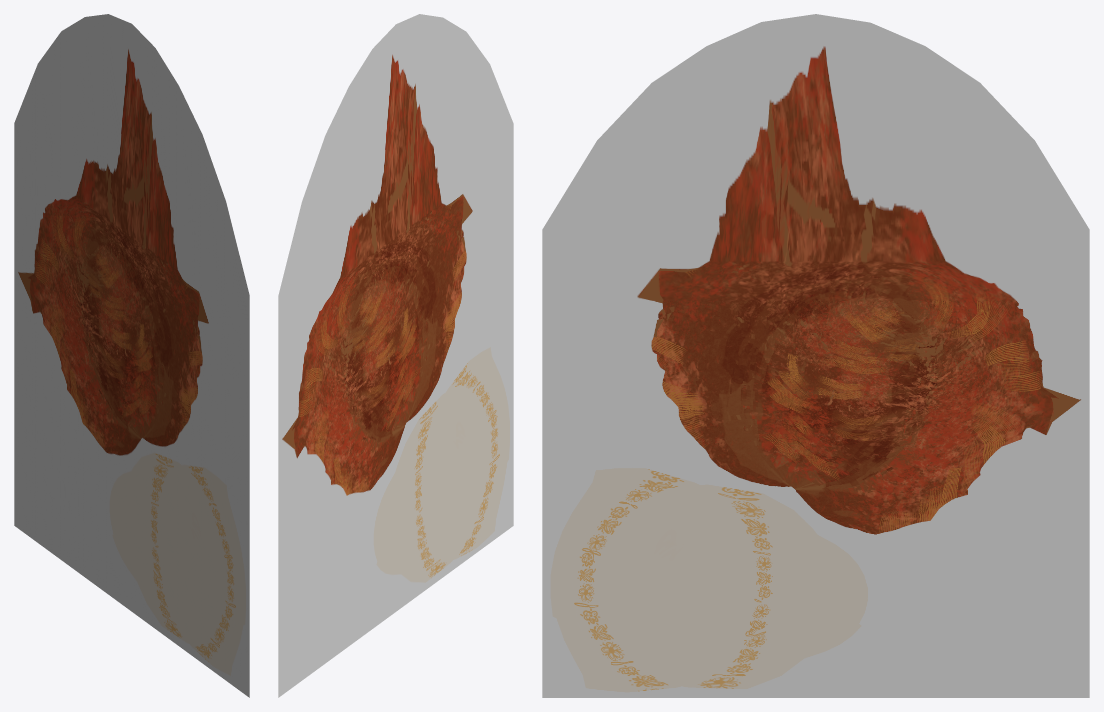
File: portalmesh.obj
3 renders of one model, left to right at view 1: azimuth 30°, elevation 25°; view 2: azimuth 150°, elevation 25°; view 3: azimuth 270°, elevation 25°, orthographic. The views are drawn at different scales.
Visible parts, largest first — view 1: pPlane1; view 2: pPlane1; view 3: pPlane1.
Boxes of the visible parts, bbox=[...] form: pPlane1: bbox=[14, 14, 249, 697]; pPlane1: bbox=[278, 14, 513, 697]; pPlane1: bbox=[542, 14, 1089, 697].
Bounding box in the file's own units: 0 × 7.79 × 5.65.
